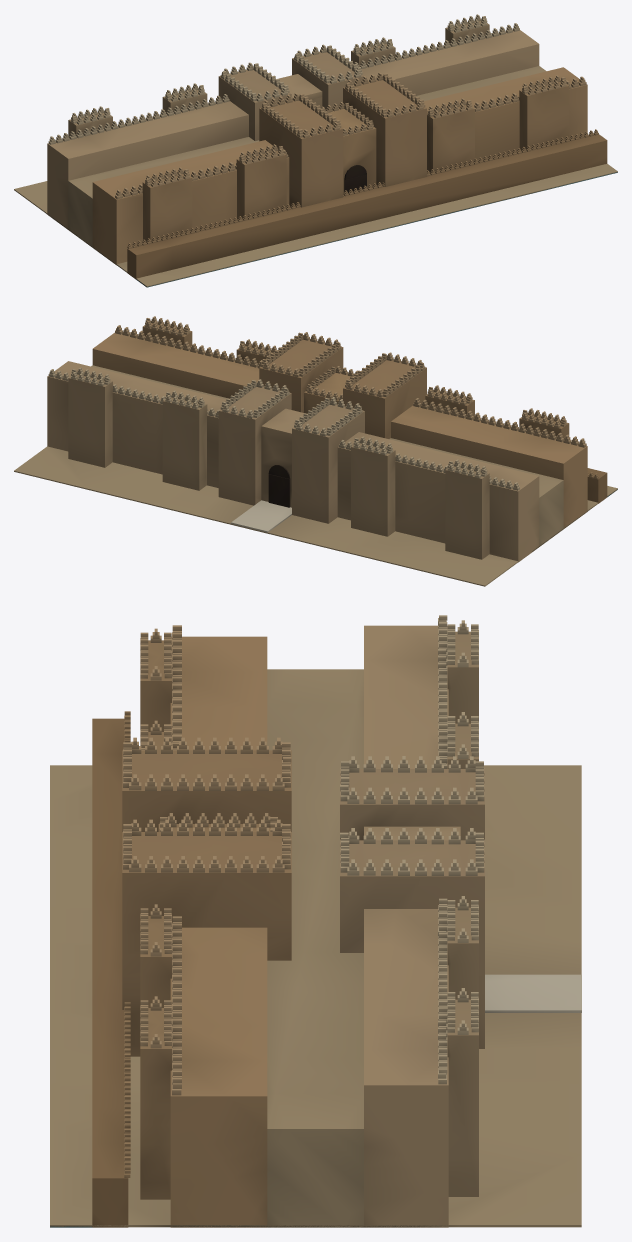
Rendered from outer-gate.glb.
The picture shows the model from 3 angles, top to bottom: view 1: azimuth 30°, elevation 25°; view 2: azimuth 150°, elevation 25°; view 3: azimuth 270°, elevation 25°; orthographic projection. The views are drawn at different scales.
Parts seen in each view (by area): view 1: p1_walls and gate, p0_moat and quay, p2_crenellations; view 2: p1_walls and gate, p0_moat and quay, p2_crenellations; view 3: p1_walls and gate, p0_moat and quay, p2_crenellations.
Part boxes in pixels (bbox=[...]): p1_walls and gate: bbox=[47, 21, 587, 265]; p0_moat and quay: bbox=[14, 134, 617, 287]; p2_crenellations: bbox=[48, 14, 598, 248]; p1_walls and gate: bbox=[47, 323, 587, 561]; p0_moat and quay: bbox=[14, 446, 617, 586]; p2_crenellations: bbox=[48, 316, 598, 490]; p1_walls and gate: bbox=[122, 625, 581, 1227]; p0_moat and quay: bbox=[50, 718, 581, 1227]; p2_crenellations: bbox=[123, 615, 484, 1177].
Bounding box in the file's own units: 90 × 18.18 × 44.03.
